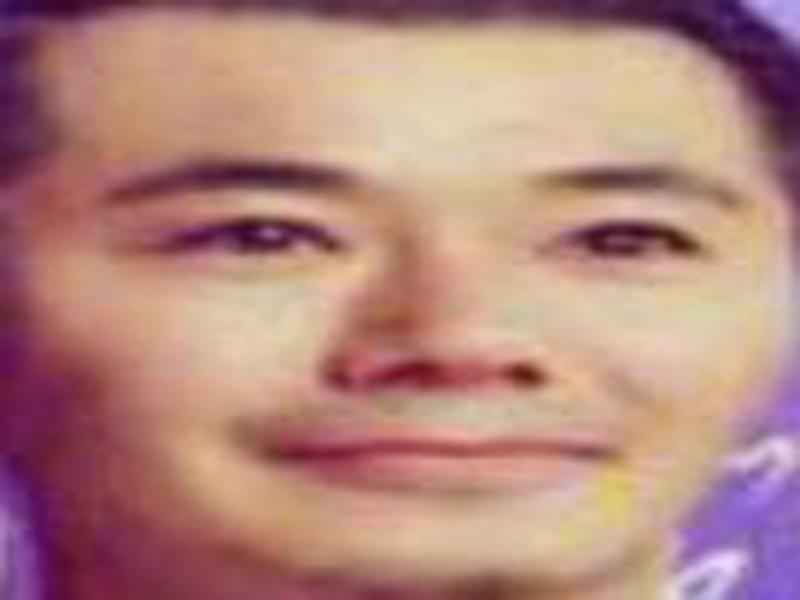without_mask: (29, 19, 778, 595)
